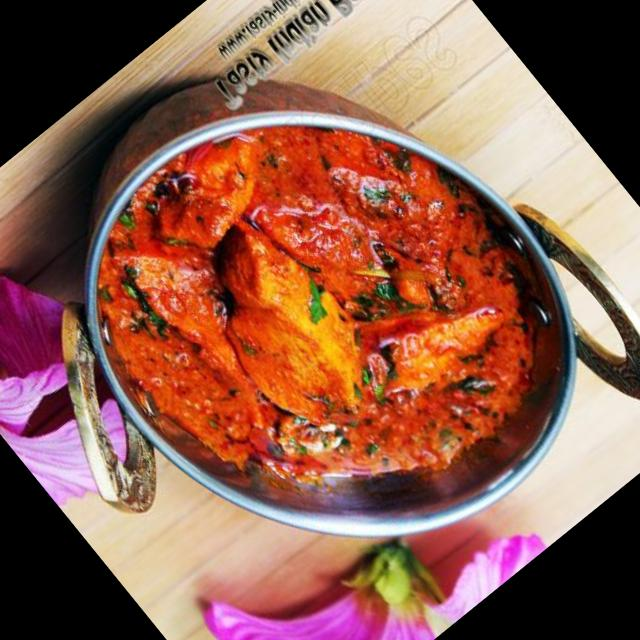chicken: (53, 34, 578, 568)
